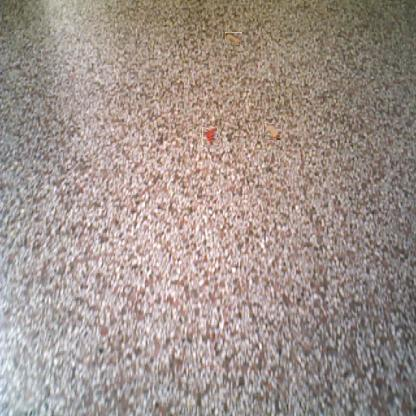dirty: (201, 129, 219, 146), (265, 123, 282, 139), (224, 32, 242, 45)
